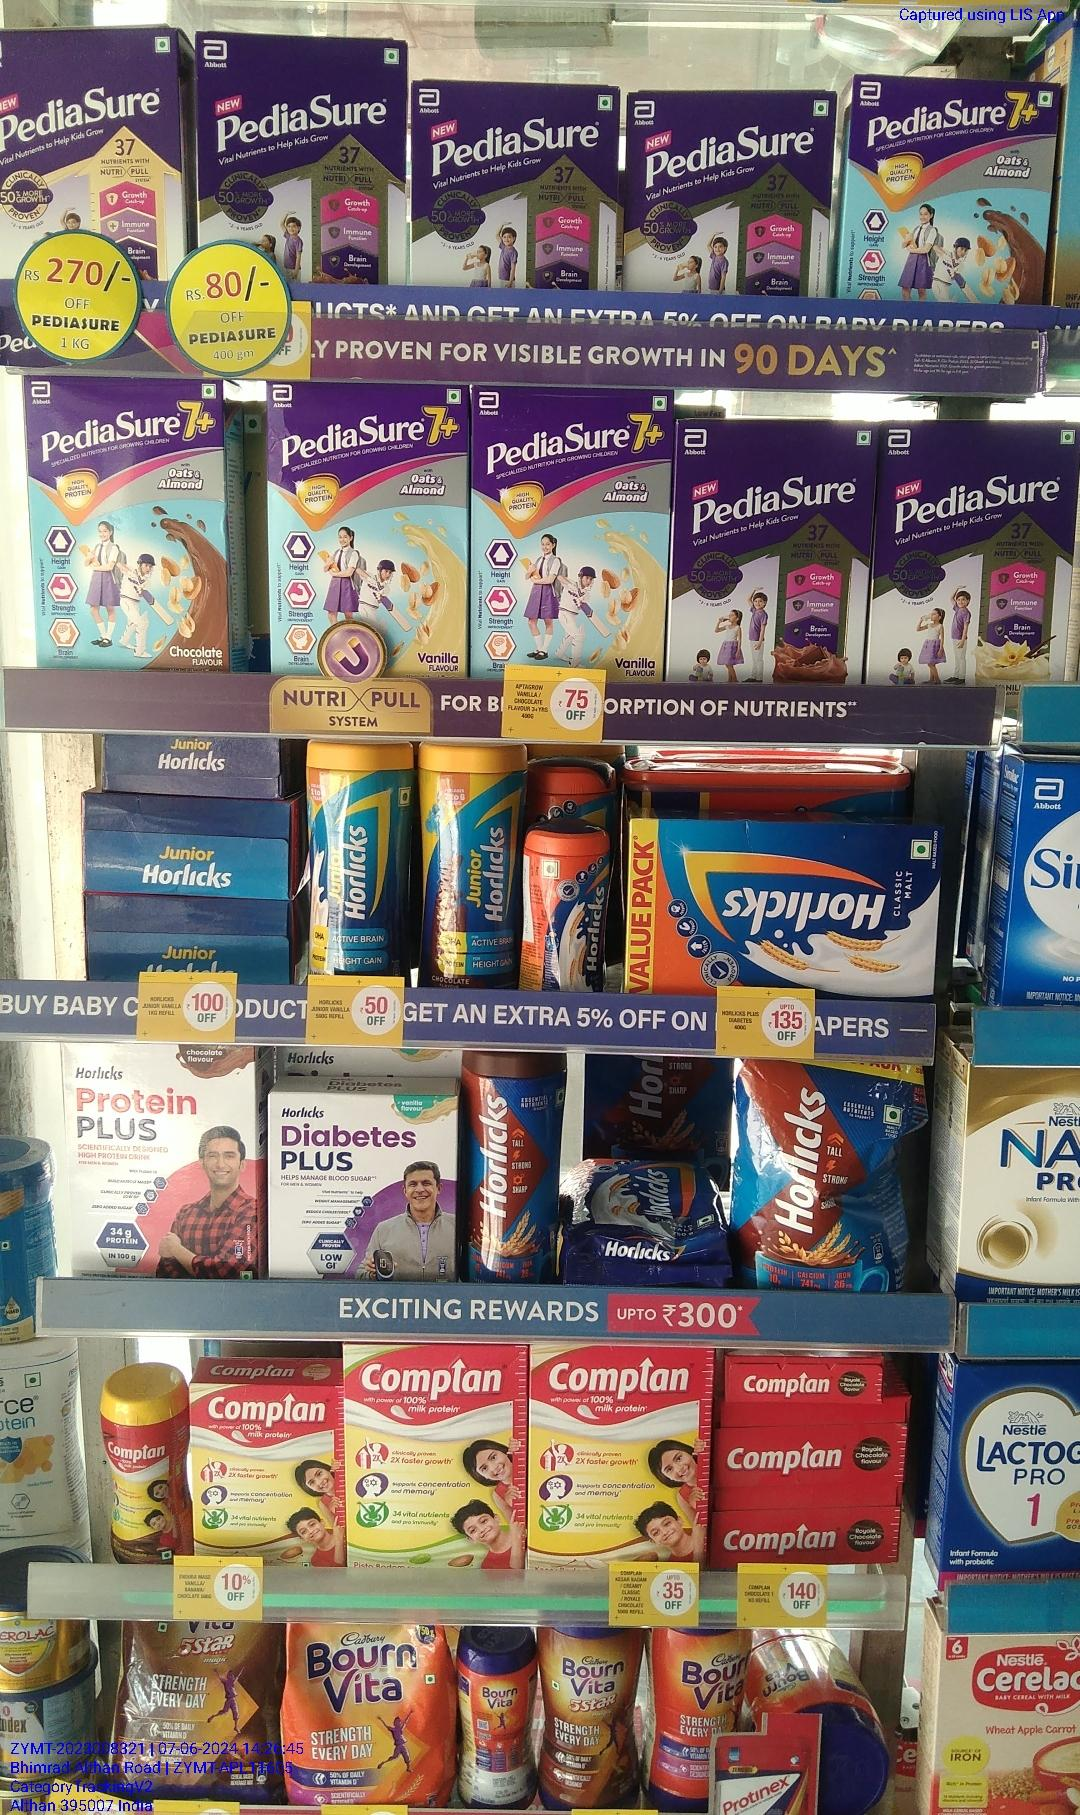BOURN_VITA_FIVE_STAR_MAGIC_500_G_JAR: (537, 1623, 642, 1809)
COMPLAN_KESAR_BADAM_200_GMS_PACK: (195, 1381, 343, 1564)
HORLICKS_JUNIOR_VANILLA_500_GM_JAR: (305, 735, 408, 974), (418, 749, 518, 981)
